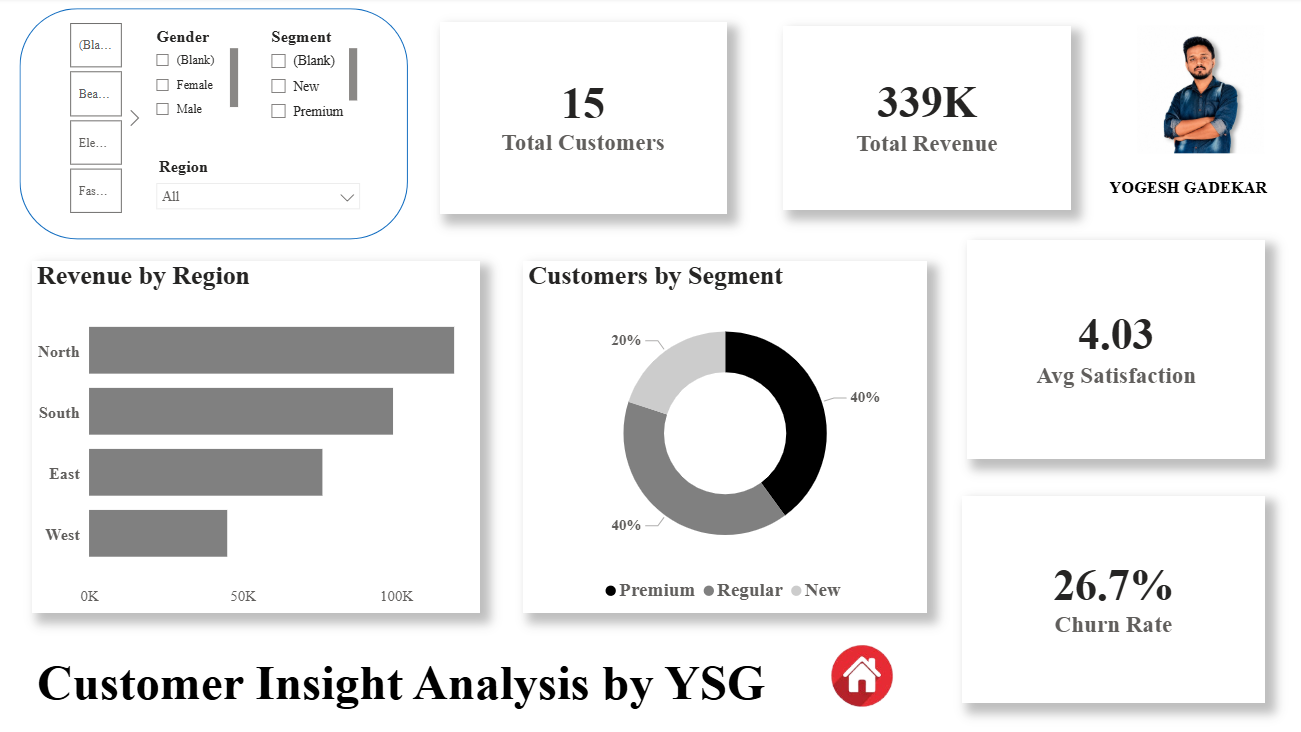

What the dashboard file says about the page in this screenshot:
{"tool":"powerbi","page":{"name":"Page 1","canvas":[1280,720],"ordinal":0},"visuals":[{"type":"image","box":[1093.8,27.7,166.2,124.6],"z":0},{"type":"shape","box":[21.5,10.8,380,226.2],"z":1000,"group":"g1"},{"type":"cardVisual","fields":{"Data":["CustomerData.Total Customers"]},"box":[432.3,24.6,281.5,187.7],"z":1000},{"type":"cardVisual","fields":{"Data":["CustomerData.Total Revenue"]},"box":[769.2,27.7,281.5,180],"z":2000},{"type":"cardVisual","fields":{"Data":["CustomerData.Avg Satisfaction"]},"box":[949.2,236.9,292.3,215.4],"z":3000},{"type":"cardVisual","fields":{"Data":["CustomerData.Churn Rate"]},"box":[944.6,487.7,296.9,203.1],"z":4000},{"type":"slicer","fields":{"Values":["CustomerData.Region"]},"box":[145.3,151.5,219.3,59.4],"z":5000,"group":"g1"},{"type":"clusteredBarChart","title":"Revenue by Region","fields":{"Category":["CustomerData.Region"],"Y":["CustomerData.Total Revenue"]},"box":[33.8,258.5,438.5,344.6],"z":5000},{"type":"slicer","fields":{"Values":["CustomerData.Segment"]},"box":[255,24.3,102,102.1],"z":6000,"group":"g1"},{"type":"donutChart","title":"Customers by Segment","fields":{"Y":["CustomerData.Total Customers"],"Category":["CustomerData.Segment"]},"box":[515.4,258.5,395.4,344.6],"z":6000},{"type":"group","id":"g1","title":"Group 1","box":[21.5,10.8,380,226.2],"z":7000},{"type":"slicer","fields":{"Values":["CustomerData.Gender"]},"box":[142.8,24.3,98.2,100],"z":7000,"group":"g1"},{"type":"slicer","fields":{"Values":["CustomerData.ProductCategory"]},"box":[44.6,18.1,100.7,200.1],"z":8000,"group":"g1"},{"type":"image","box":[781.5,609.2,129.2,110.8],"z":8000},{"type":"textbox","box":[1083.1,172.3,186.2,46.2],"z":9000},{"type":"textbox","box":[33.8,638.5,809.2,81.5],"z":10000}]}

Visuals, with their boxes in screenshot pixels (x1, y1, x2, y2), scaled from the page's 1280x720 canvas onto the 1301x732 screenshot:
image: (1112,28,1281,155)
shape: (22,11,408,241)
cardVisual - CustomerData.Total Customers: (439,25,726,216)
cardVisual - CustomerData.Total Revenue: (782,28,1068,211)
cardVisual - CustomerData.Avg Satisfaction: (965,241,1262,460)
cardVisual - CustomerData.Churn Rate: (960,496,1262,702)
slicer - CustomerData.Region: (148,154,371,214)
"Revenue by Region" clusteredBarChart: (34,263,480,613)
slicer - CustomerData.Segment: (259,25,363,129)
"Customers by Segment" donutChart: (524,263,926,613)
"Group 1" group: (22,11,408,241)
slicer - CustomerData.Gender: (145,25,245,126)
slicer - CustomerData.ProductCategory: (45,18,148,222)
image: (794,619,926,731)
textbox: (1101,175,1290,222)
textbox: (34,649,857,731)
